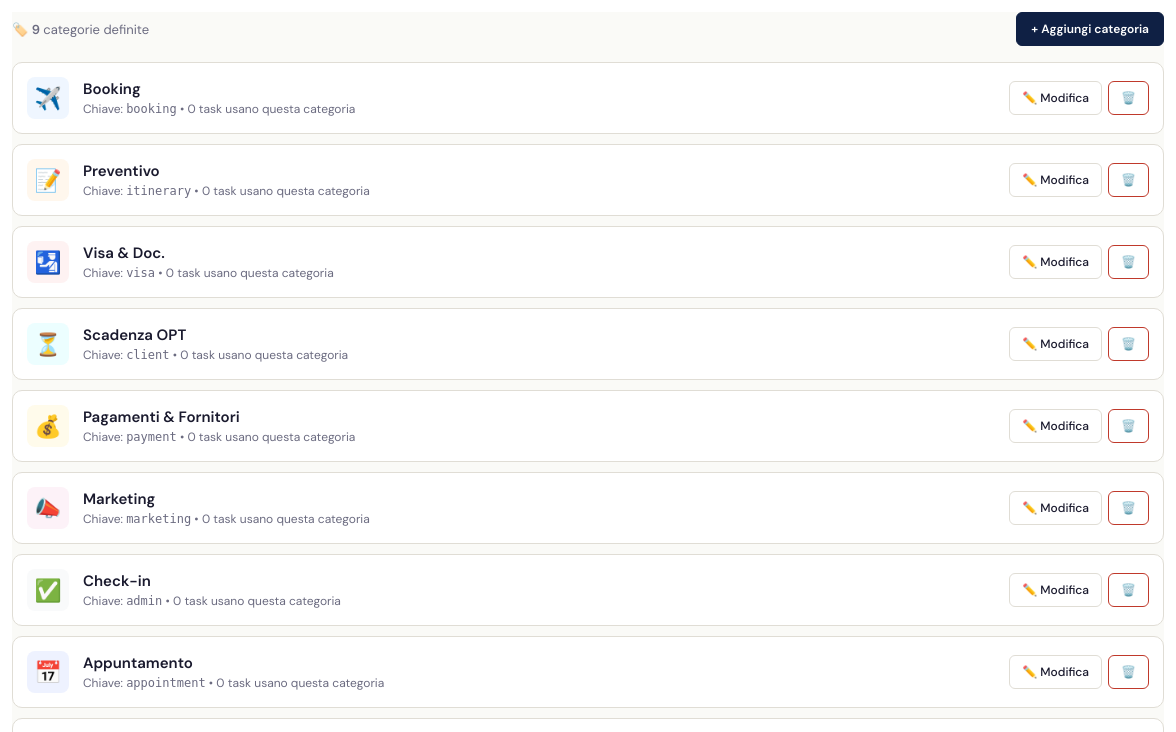
A-4 · AdminCategoriesTab — l'editor in linea non si svuota sul rifiuto › scrittura riuscita: l'editor si chiude (controllo positivo)
Click the 1st button "✏️ Modifica" at point(1056, 98), box [1009, 81, 1102, 115]
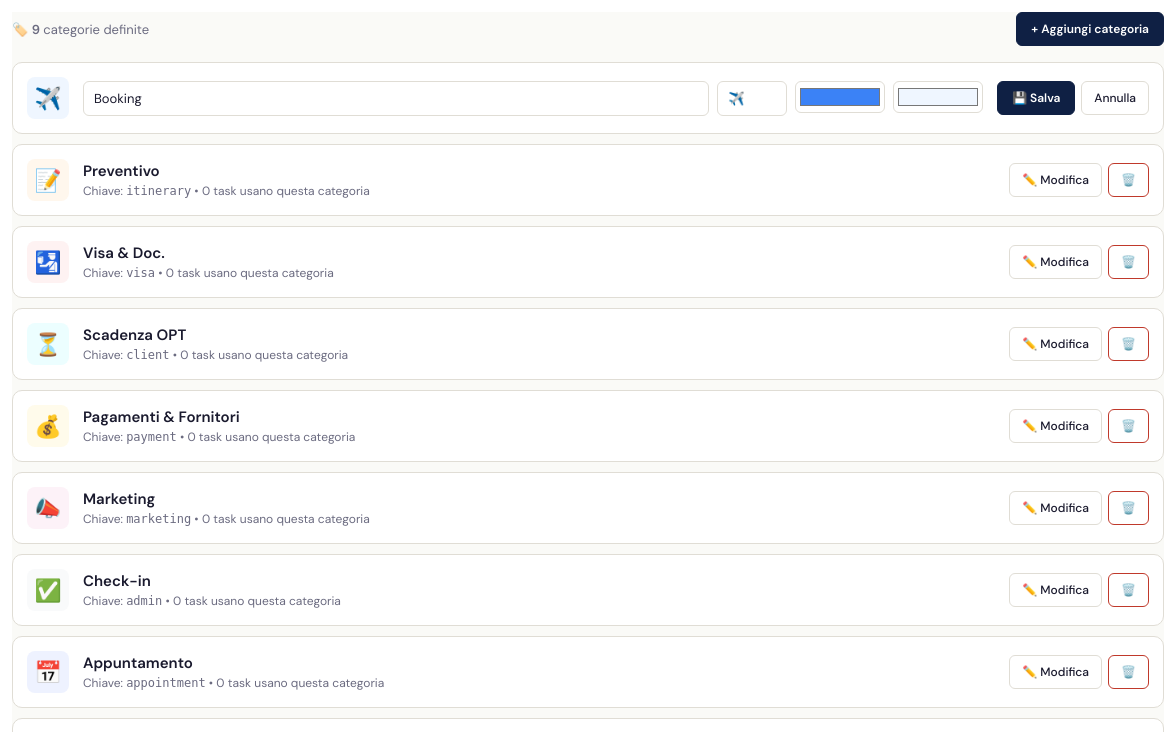
Replace the text in the 1st field with placeholder "Etichetta" with "Voli" at point(396, 98), box [83, 80, 709, 116]
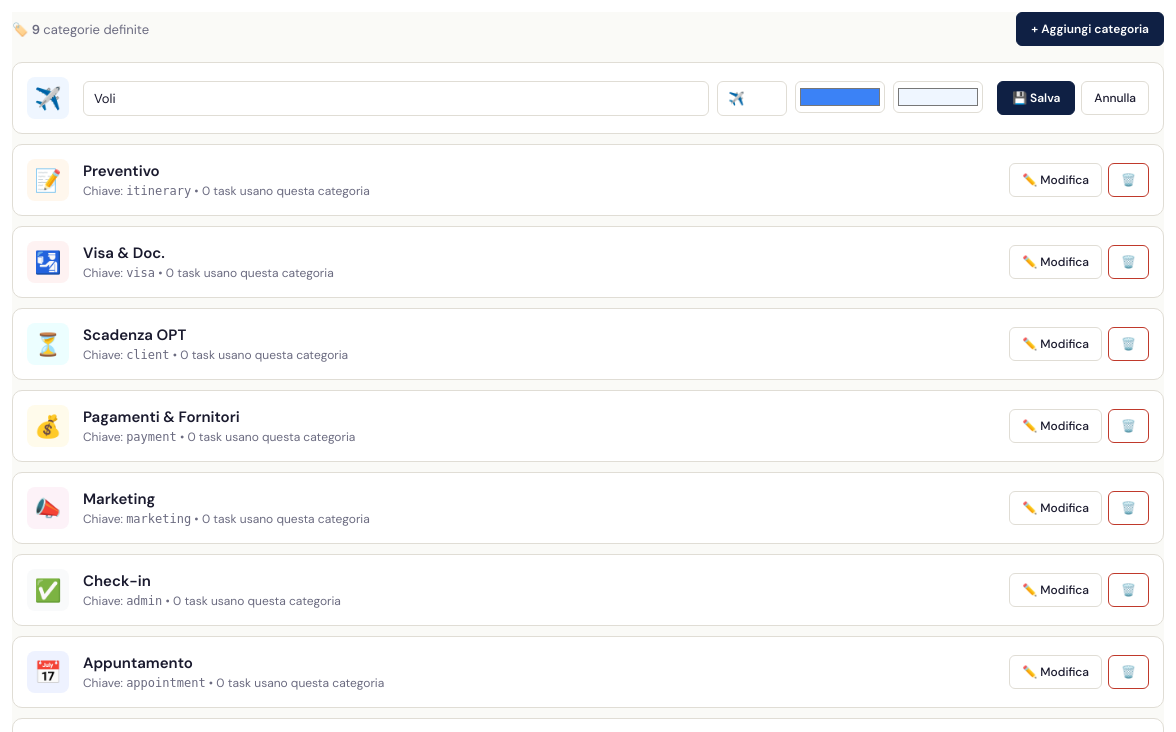
Click the button "💾 Salva" at point(1036, 98), box [997, 81, 1075, 115]
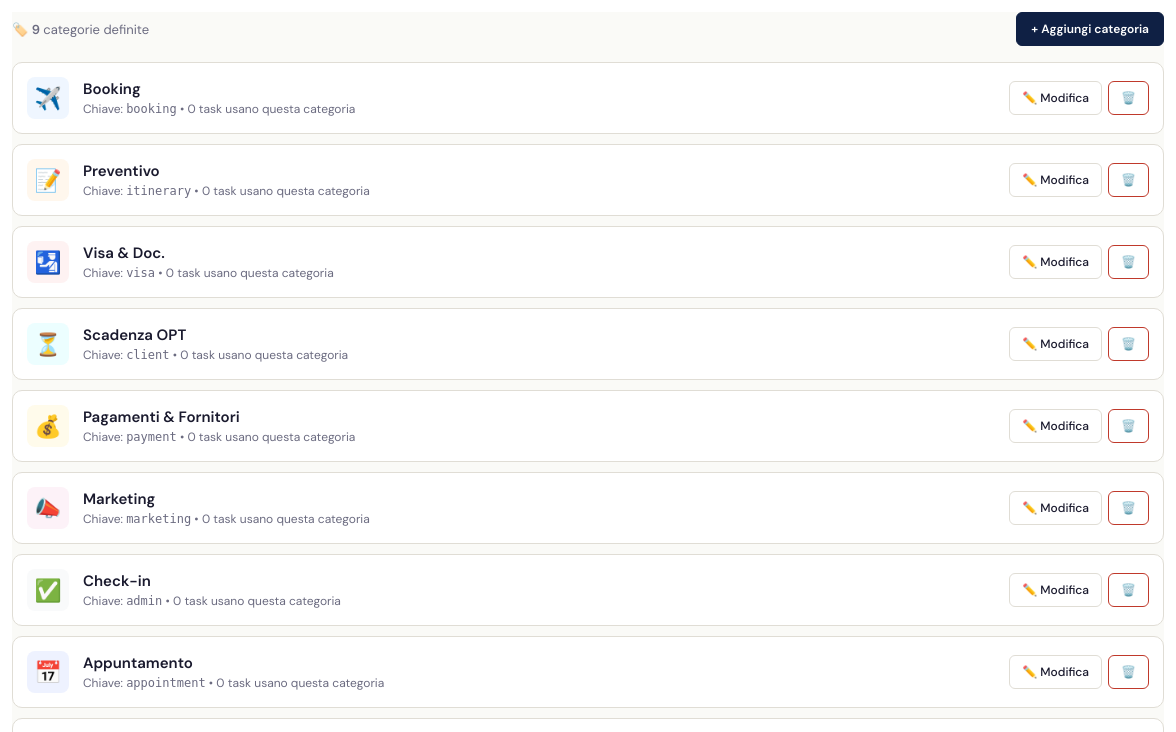
expect the field with placeholder "Etichetta" is gone: met
